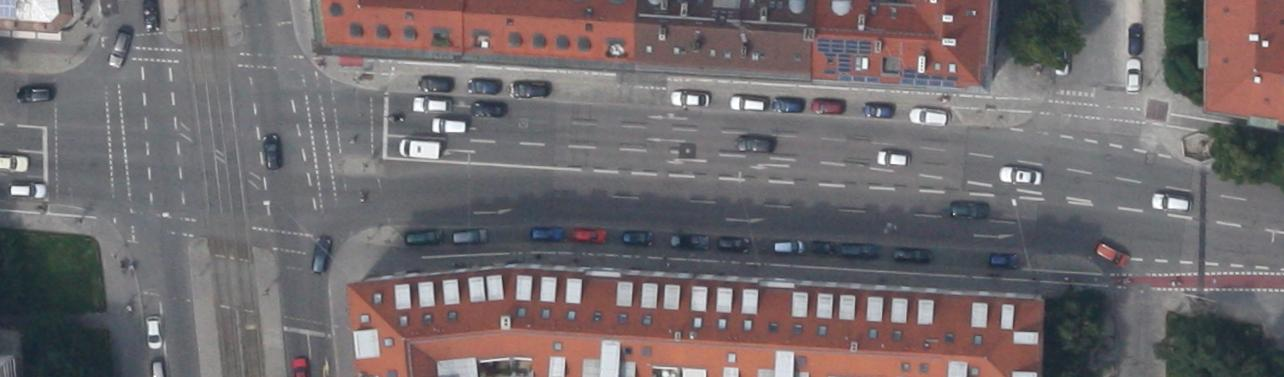car: (997, 164, 1044, 186), (309, 234, 333, 276), (1095, 240, 1131, 268), (397, 138, 442, 160), (106, 32, 132, 68), (1151, 192, 1193, 213), (893, 245, 932, 264), (262, 133, 282, 170), (950, 200, 990, 218), (736, 134, 776, 152), (412, 96, 452, 113), (909, 108, 949, 125), (512, 80, 549, 98), (670, 233, 709, 250), (842, 242, 881, 259), (728, 95, 768, 111), (717, 235, 750, 254), (470, 100, 506, 117), (572, 226, 606, 244), (431, 117, 466, 134), (861, 100, 894, 118), (9, 182, 46, 198), (670, 91, 709, 106), (530, 226, 564, 243), (142, 0, 160, 32), (419, 76, 455, 92), (452, 228, 488, 244), (404, 230, 442, 245), (812, 97, 845, 114), (146, 315, 162, 349), (16, 87, 50, 103), (1125, 58, 1141, 92), (988, 252, 1018, 270), (467, 78, 500, 94), (877, 151, 910, 167), (773, 96, 804, 112), (1128, 24, 1144, 54), (622, 230, 652, 246), (774, 239, 805, 254), (812, 240, 836, 254)
